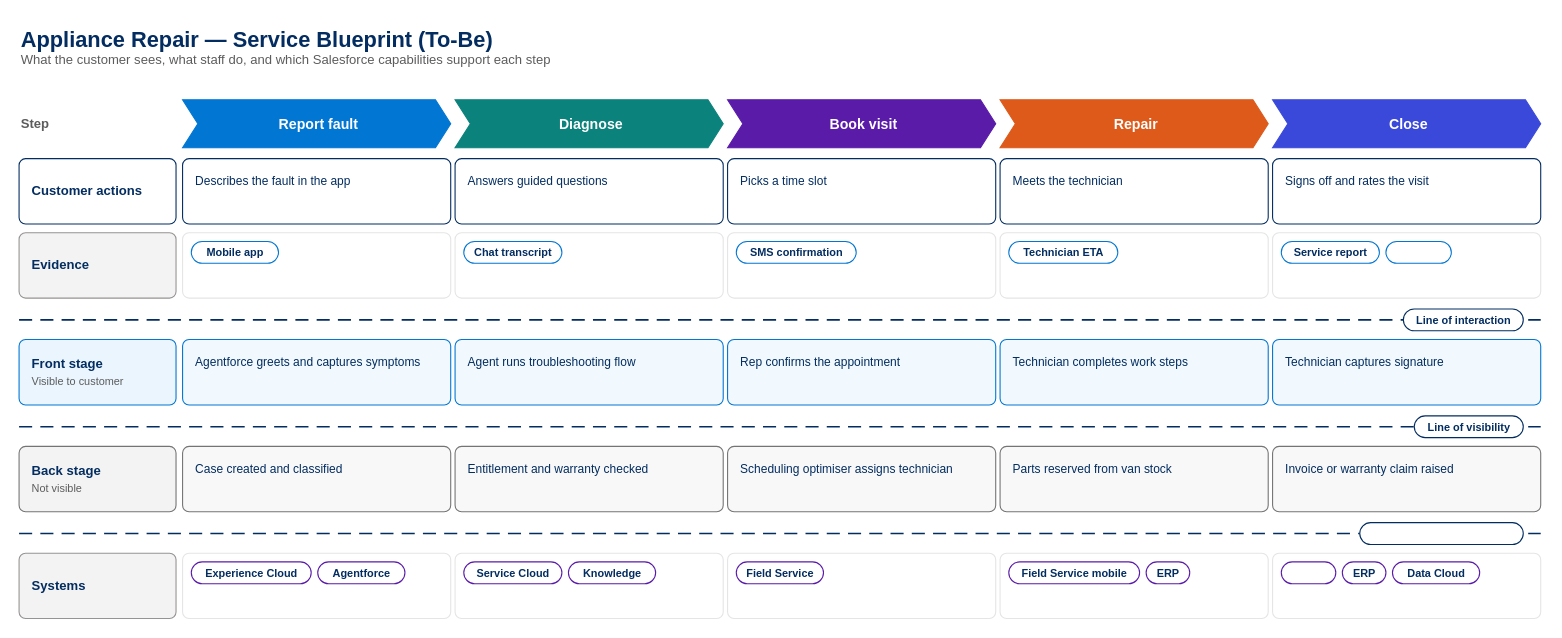
Image size: 1562x638. Some labels were removed from this diagram. Here are the shapes that lost their labels. From the top down, the centre of each, then its label:
At point 1418,251: "Survey".
At point 1441,533: "Line of internal interaction".
At point 1308,572: "Flow".
